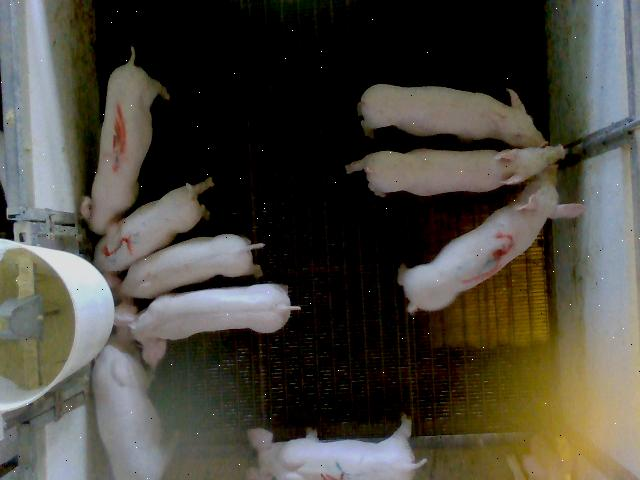pig-1: (81, 48, 170, 234)
pig-3: (398, 165, 585, 312)
pig-5: (94, 178, 214, 271)
